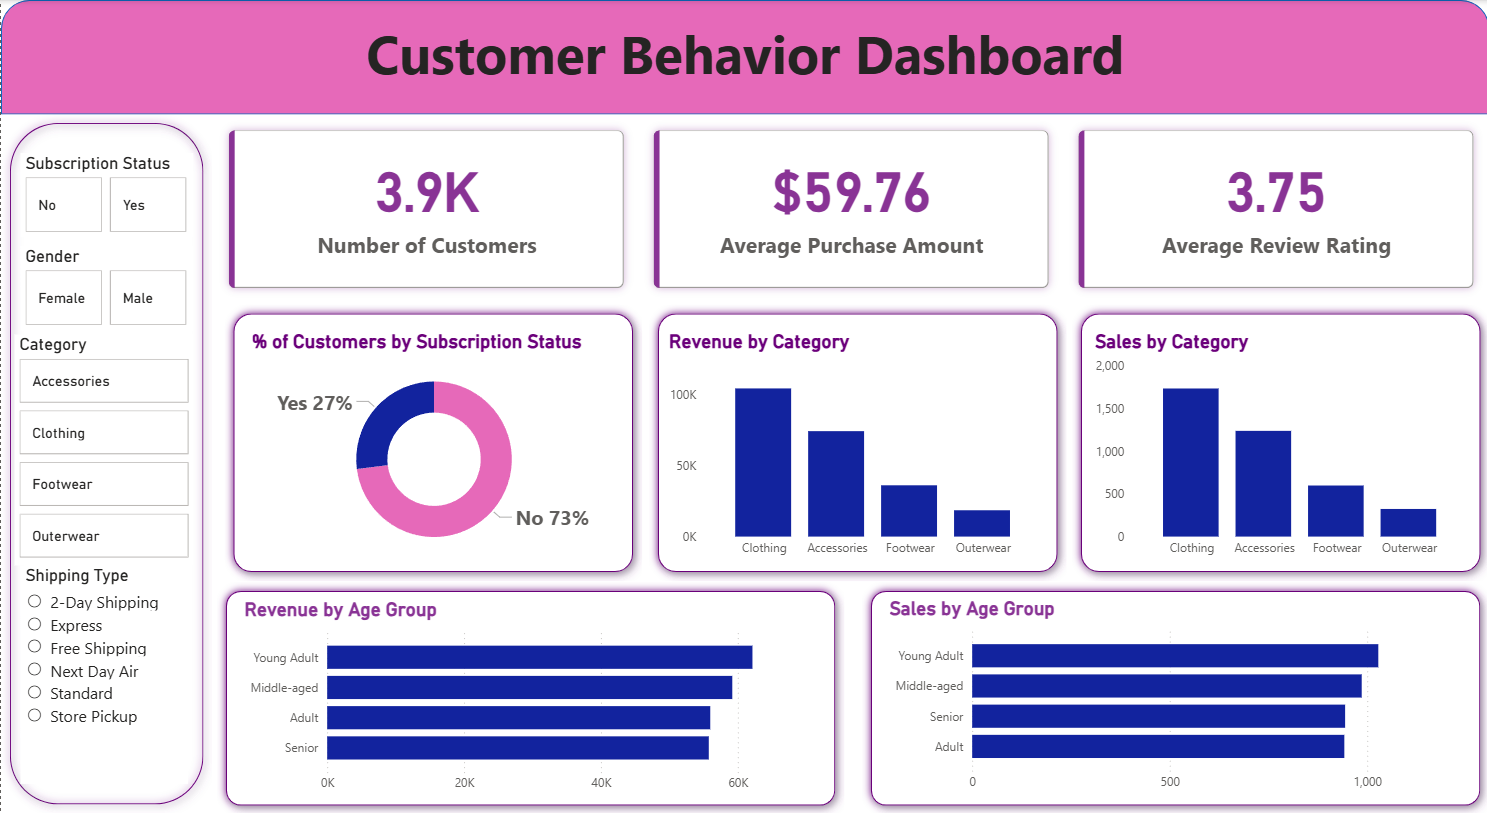

The page's visual inventory and layout, read from the dashboard file:
{"tool":"powerbi","page":{"name":"Page 1","canvas":[1500,820],"ordinal":0},"visuals":[{"type":"cardVisual","fields":{"Data":["public customer.Number of Customers","public customer.Average Purchase Amount","public customer.Average Review Rating"]},"box":[212.9,115.3,1286.5,191.6],"z":2000},{"type":"shape","box":[218.3,585.6,631.7,234.2],"z":2500,"group":"g1"},{"type":"shape","box":[0,0,1499.4,115.3],"z":3000},{"type":"textbox","box":[0,12.4,1499.4,102.9],"z":4000},{"type":"shape","box":[225.4,307,420.5,278.6],"z":5000},{"type":"donutChart","title":"% of Customers by Subscription Status","fields":{"Category":["public customer.subscription_status"],"Y":["CountNonNull(public customer.customer_id)"]},"box":[248.4,331.8,376.2,237.8],"z":6000},{"type":"shape","box":[1078.9,307,420.5,278.6],"z":7000},{"type":"shape","box":[652.1,307,420.5,278.6],"z":8000},{"type":"clusteredColumnChart","title":"Revenue by Category","fields":{"Y":["Sum(public customer.purchase_amount)"],"Category":["public customer.category"]},"box":[667.2,331.8,385.1,237.8],"z":9000},{"type":"clusteredColumnChart","title":"Sales by Category","fields":{"Y":["CountNonNull(public customer.customer_id)"],"Category":["public customer.category"]},"box":[1096.6,331.8,385.1,237.8],"z":10000},{"type":"shape","box":[0,115.3,212.9,704.5],"z":11000},{"type":"advancedSlicerVisual","fields":{"Values":["public customer.subscription_status"]},"box":[19.6,154.1,173.8,84.6],"z":12000},{"type":"advancedSlicerVisual","fields":{"Values":["public customer.gender"]},"box":[20,247.1,173.6,85],"z":13000},{"type":"advancedSlicerVisual","fields":{"Values":["public customer.category"]},"box":[13.6,337.1,180,232.9],"z":14000},{"type":"listSlicer","fields":{"Values":["public customer.shipping_type"]},"box":[19.5,569.6,168.6,220],"z":15000},{"type":"shape","box":[867.7,585.6,631.7,234.2],"z":16000},{"type":"clusteredBarChart","title":"Sales by Age Group","fields":{"Y":["CountNonNull(public customer.customer_id)"],"Category":["public customer.age_group"]},"box":[890.8,601.5,585.6,204.1],"z":17000},{"type":"clusteredBarChart","title":"Revenue by Age Group","fields":{"Y":["Sum(public customer.purchase_amount)"],"Category":["public customer.age_group"]},"box":[241.4,601.6,585.6,204.1],"z":17500,"group":"g1"},{"type":"group","id":"g1","title":"Group 1","box":[218.3,585.6,631.7,234.2],"z":17501}]}

Visuals, with their boxes in screenshot pixels (x1, y1, x2, y2), scaled from the page's 1500x820 canvas onto the 1487x813 screenshot:
cardVisual - public customer.Number of Customers x public customer.Average Purchase Amount: <bbox>211, 114, 1486, 304</bbox>
shape: <bbox>216, 581, 843, 812</bbox>
shape: <bbox>0, 0, 1486, 114</bbox>
textbox: <bbox>0, 12, 1486, 114</bbox>
shape: <bbox>223, 304, 640, 581</bbox>
"% of Customers by Subscription Status" donutChart: <bbox>246, 329, 619, 565</bbox>
shape: <bbox>1070, 304, 1486, 581</bbox>
shape: <bbox>646, 304, 1063, 581</bbox>
"Revenue by Category" clusteredColumnChart: <bbox>661, 329, 1043, 565</bbox>
"Sales by Category" clusteredColumnChart: <bbox>1087, 329, 1469, 565</bbox>
shape: <bbox>0, 114, 211, 812</bbox>
advancedSlicerVisual - public customer.subscription_status: <bbox>19, 153, 192, 237</bbox>
advancedSlicerVisual - public customer.gender: <bbox>20, 245, 192, 329</bbox>
advancedSlicerVisual - public customer.category: <bbox>13, 334, 192, 565</bbox>
listSlicer - public customer.shipping_type: <bbox>19, 565, 186, 783</bbox>
shape: <bbox>860, 581, 1486, 812</bbox>
"Sales by Age Group" clusteredBarChart: <bbox>883, 596, 1464, 799</bbox>
"Revenue by Age Group" clusteredBarChart: <bbox>239, 596, 820, 799</bbox>
"Group 1" group: <bbox>216, 581, 843, 812</bbox>
